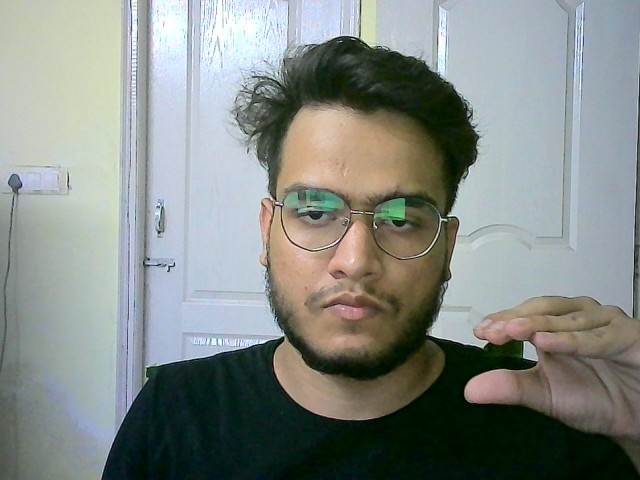No: (460, 290, 640, 437)
